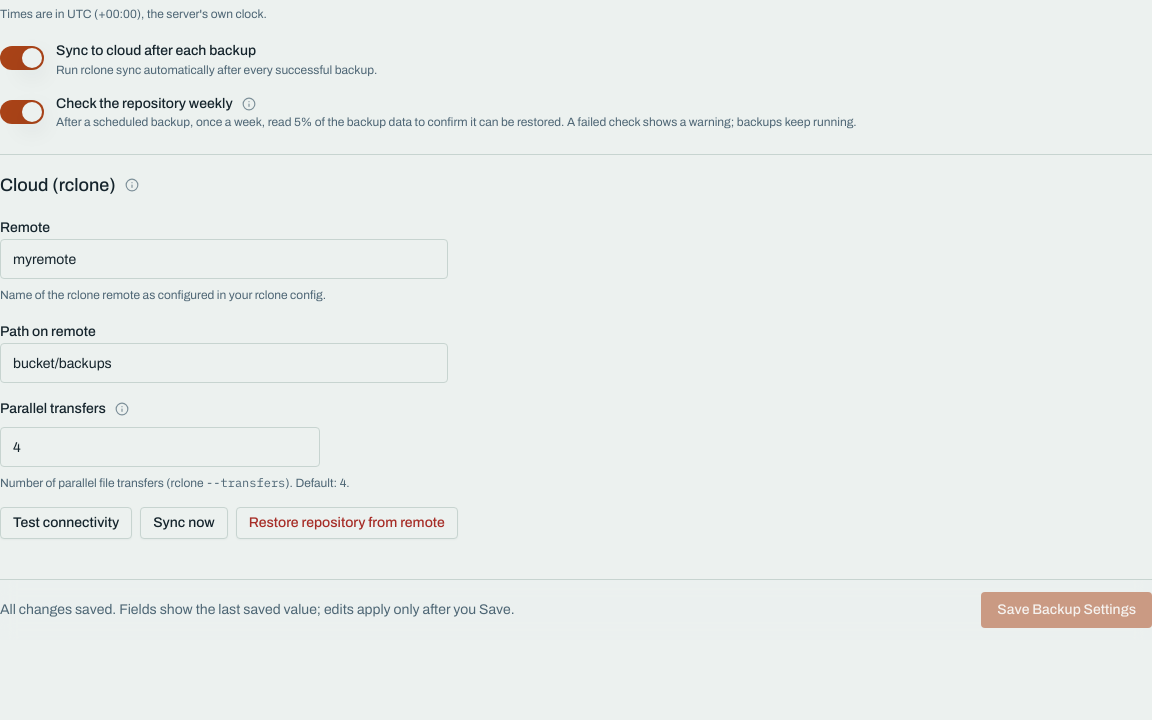
Test: BackupSettingsContent — Restore repository from remote › the confirm button stays disabled until the exact remote name is typed
(page scrolled)
Click the button "Restore repository from remote": point(347, 523) [236,507,458,539]
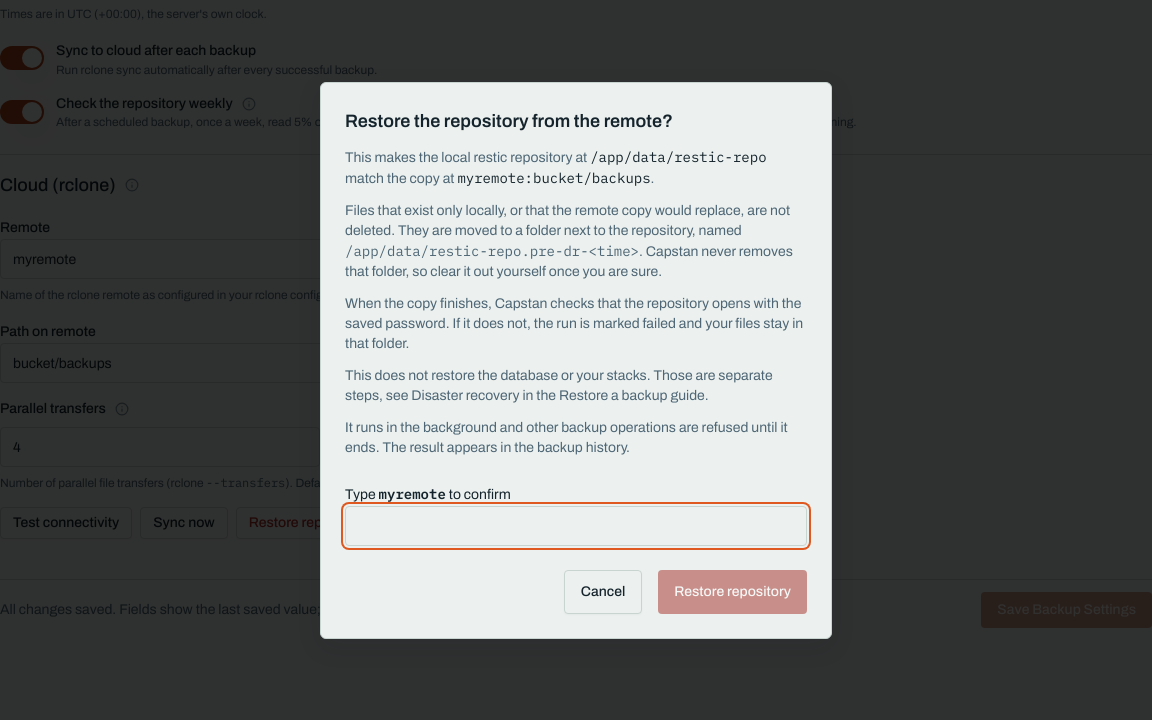
Now the button "Restore repository" is disabled, box [658,570,807,614]
In the field labelled "Type myremote to confirm": point(576, 526) [345,506,807,546], type "myremot"
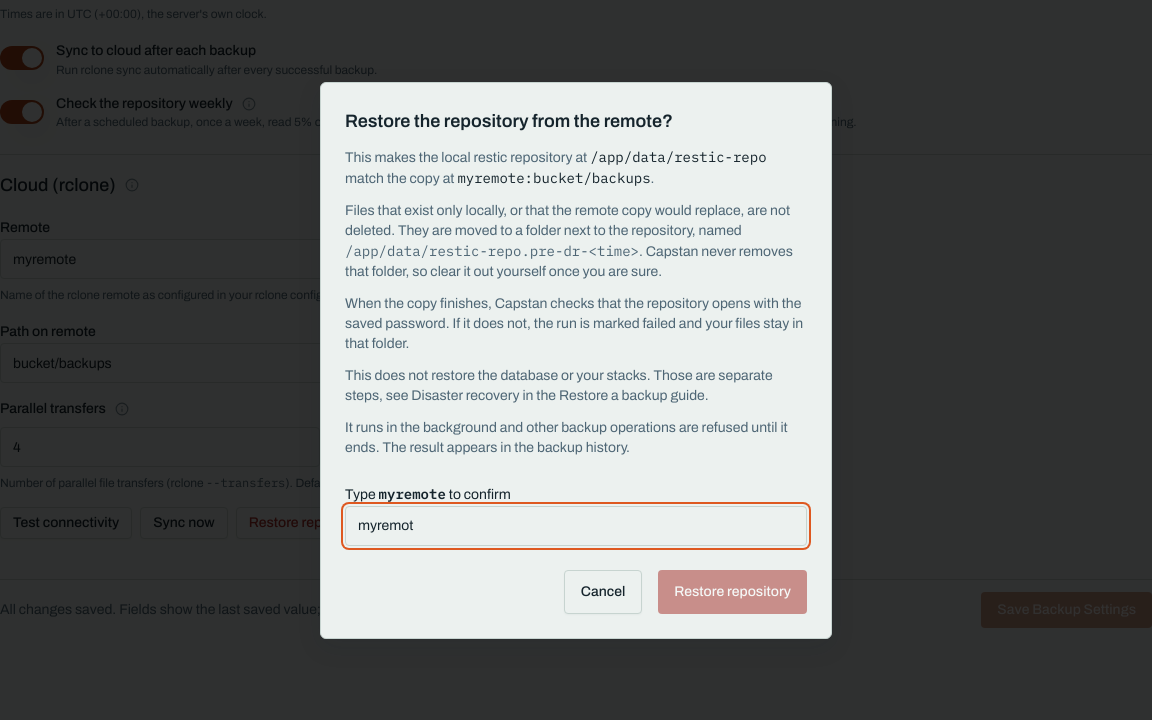
Now the button "Restore repository" is disabled, box [658,570,807,614]
Replace the text in the field labelled "Type myremote to confirm" with "MyRemote": point(576, 526) [345,506,807,546]
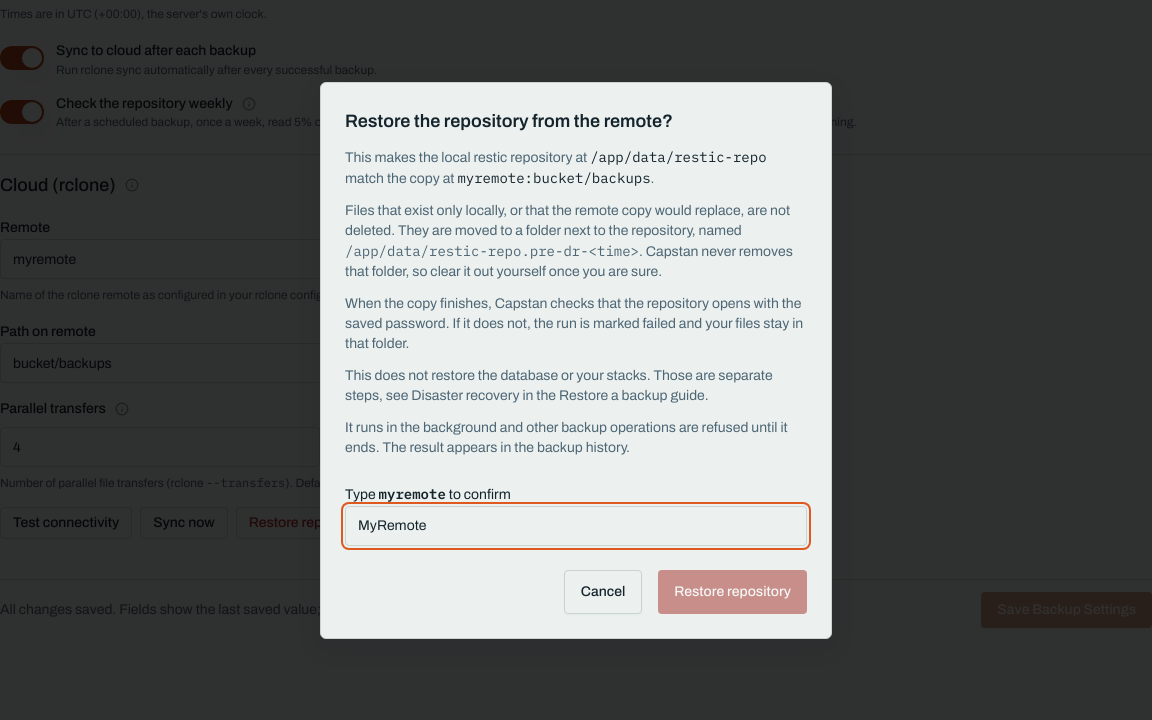
Now the button "Restore repository" is disabled, box [658,570,807,614]
Replace the text in the field labelled "Type myremote to confirm" with "myremote": point(576, 526) [345,506,807,546]
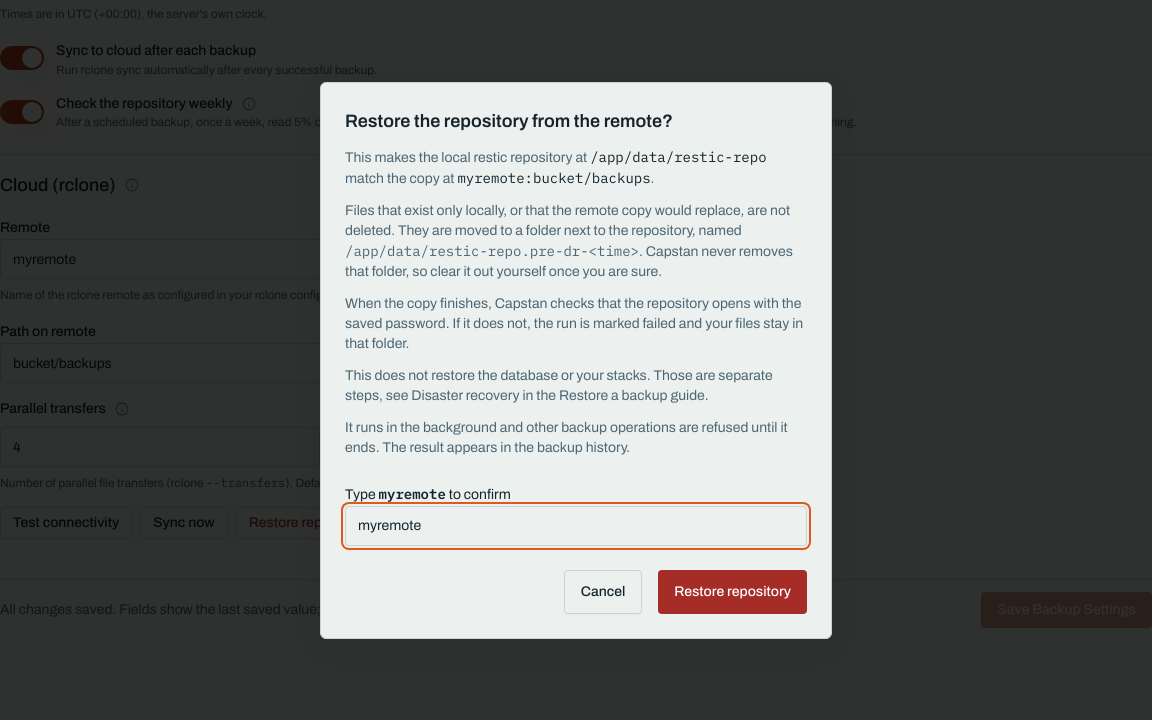
Now the button "Restore repository" is enabled, box [658,570,807,614]
